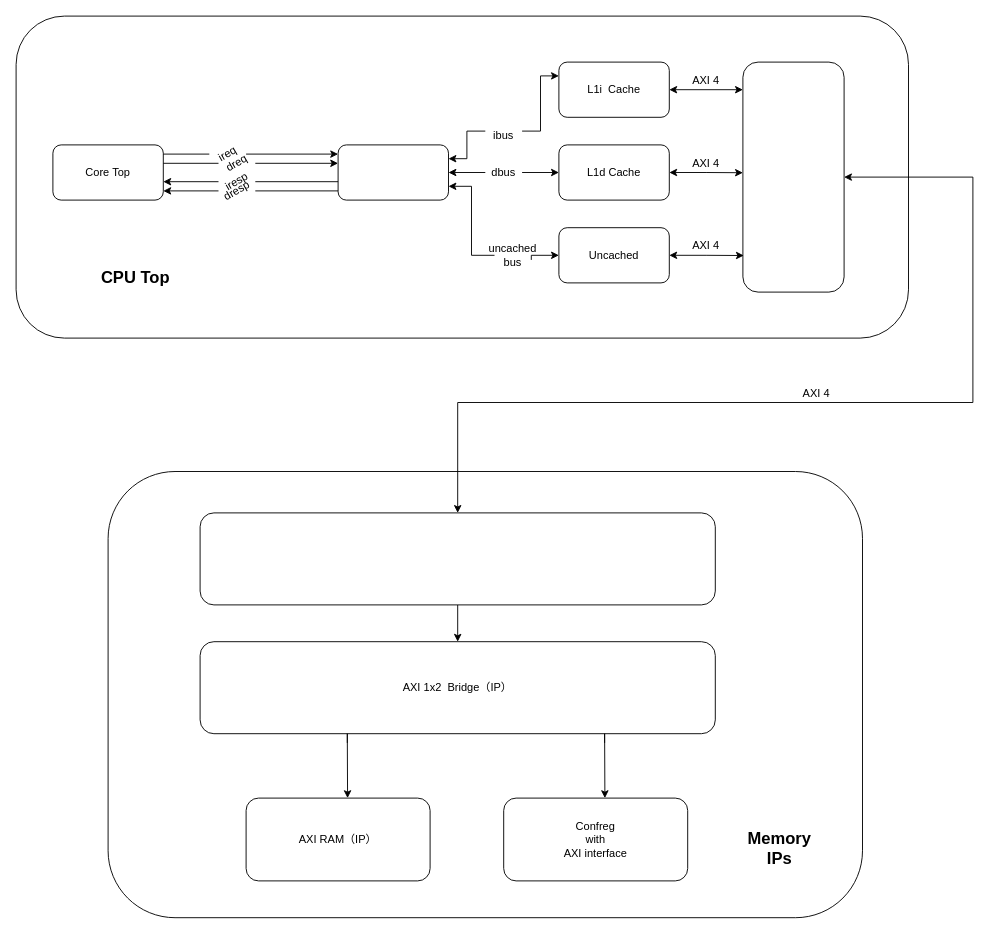
Some shapes in this 997 by 934 pixel diagram are drawn without their labels. Each missing label, with the centre of its shape:
"AXI Clock Convert （IP）" belongs at point 457,558.
"AXI Crossbar （IP）" belongs at point 793,176.
"MMU" belongs at point 392,172.
